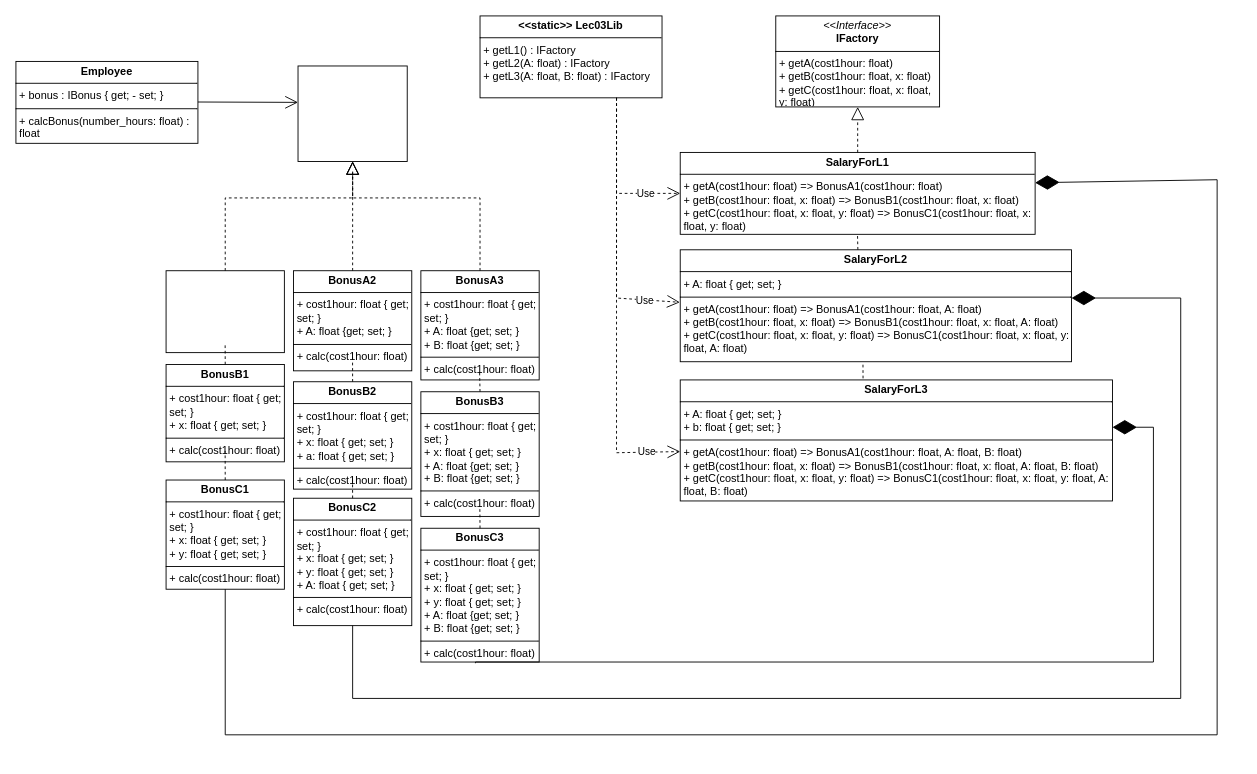
Image size: 1257x774. Some labels were removed from this diagram. Each missing label, with the centre of its shape:
"<<Interface>> IBonus + cost1hour: Type +calc(number_hours: float)" goes at [352,113].
"BonusA1 + cost1hour: float { get; set; } + calc(cost1hour: float)" goes at [224,311].
